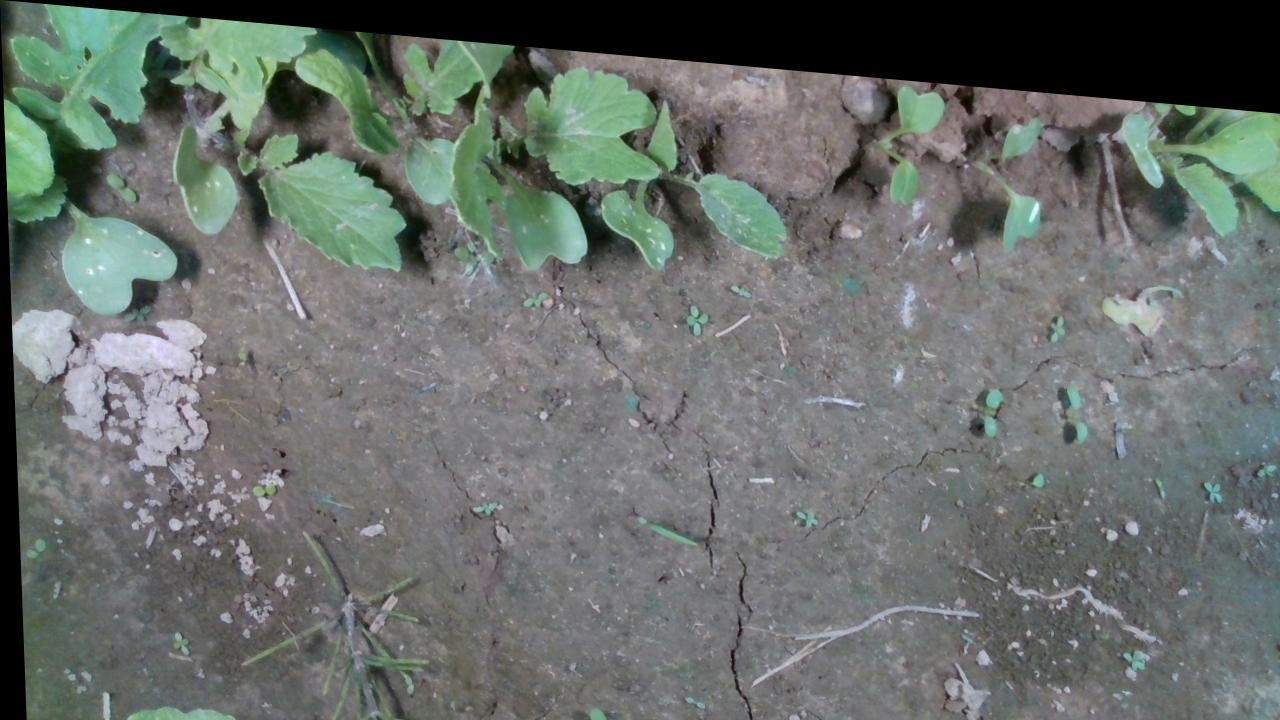weed: (1059, 359, 1086, 425), (977, 365, 1000, 420), (102, 169, 137, 200), (582, 694, 618, 719), (680, 290, 706, 324), (517, 277, 549, 300), (1044, 293, 1065, 324), (1197, 456, 1221, 483), (466, 488, 496, 509), (1117, 626, 1141, 652), (20, 534, 41, 560), (165, 626, 185, 653), (791, 491, 816, 512), (246, 475, 273, 493), (1252, 436, 1275, 454), (727, 267, 749, 284), (677, 681, 701, 696)
